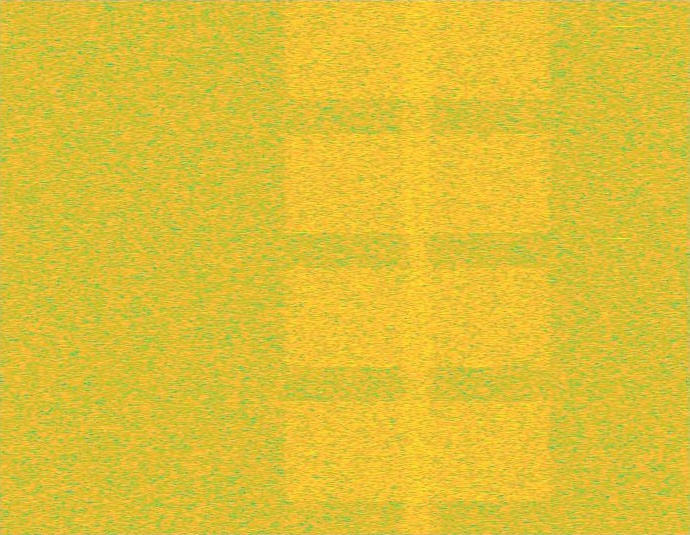5G: (280, 0, 556, 534)
DSSS: (399, 0, 436, 534)
Radar: (616, 0, 629, 534)
